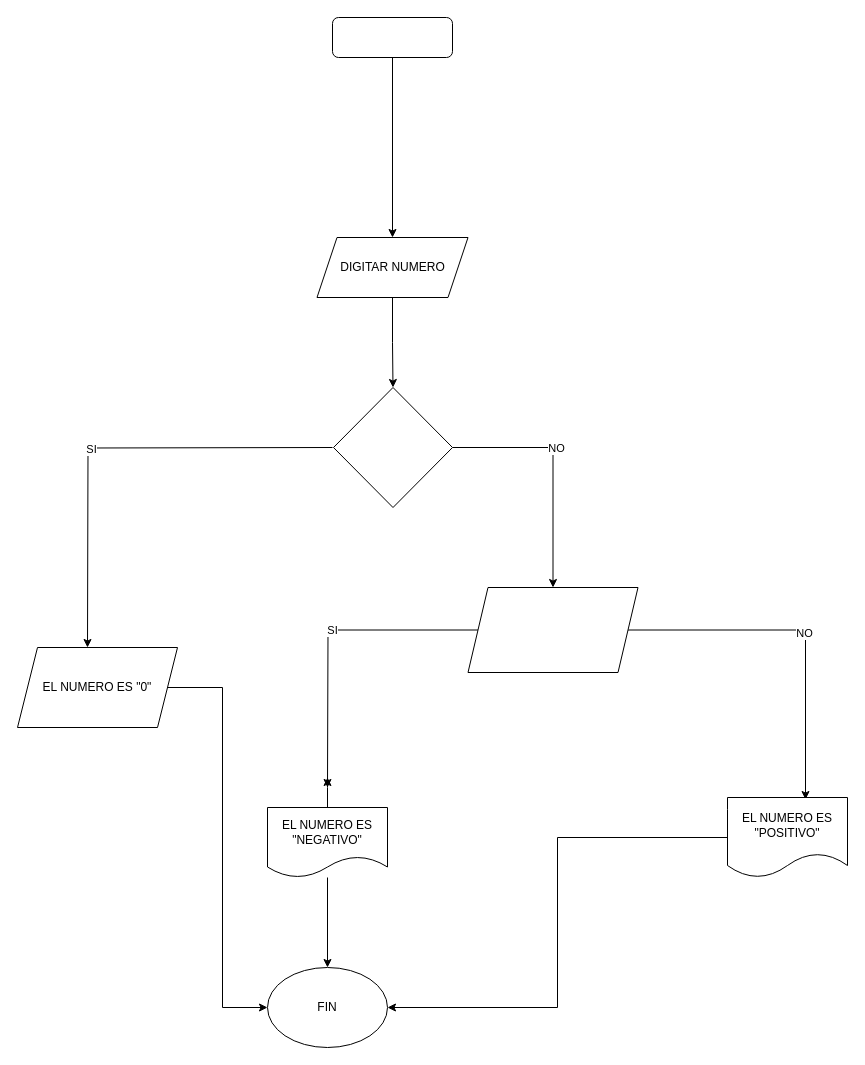
Image size: 865x1065. Some labels were removed from this diagram. The shapes that lost their labels are listed below. From the top down, each one's centre as x and y in pixels, then its label:
(x=392, y=37): INICIO
(x=392, y=447): NUMERO ~0
(x=552, y=629): NUMERO <0
